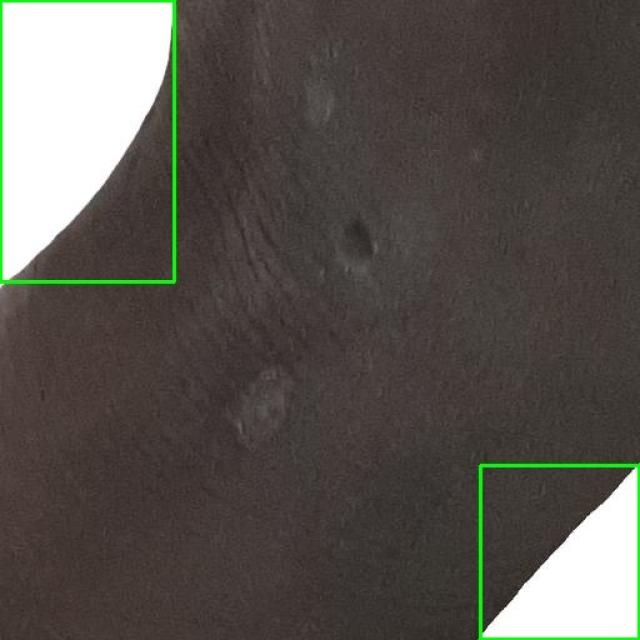Eczema: (0, 0, 174, 281), (480, 465, 639, 639)
